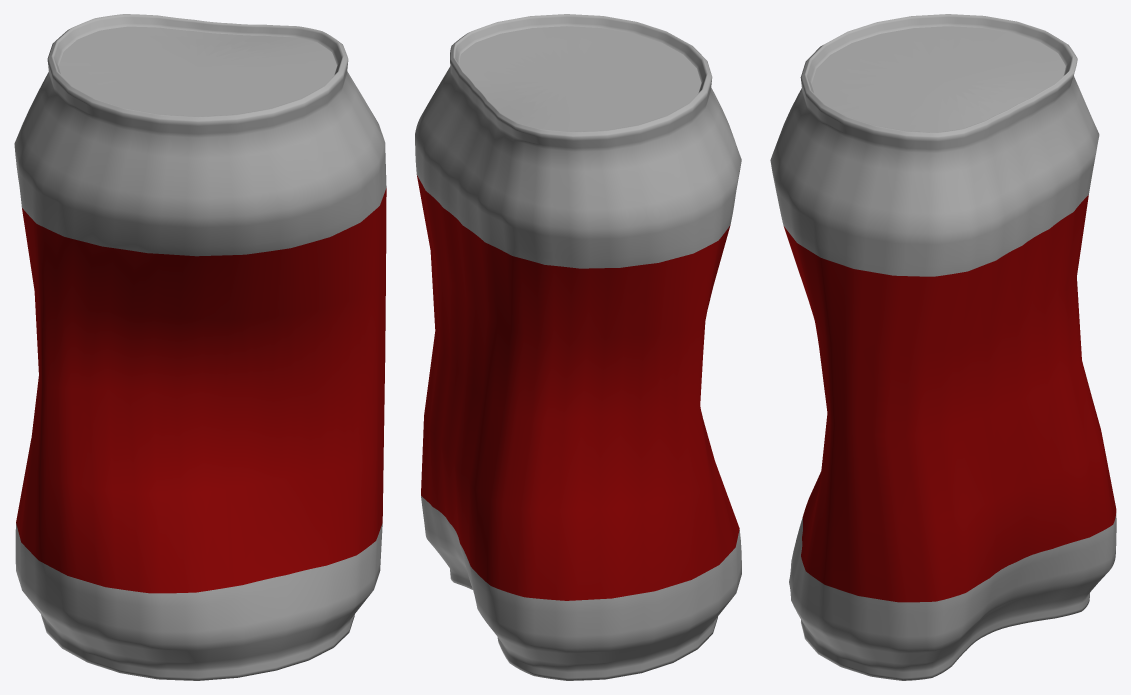
The model's file is Dose_Deformiert.fbx.
The picture shows the model from 3 angles, left to right: view 1: azimuth 30°, elevation 25°; view 2: azimuth 150°, elevation 25°; view 3: azimuth 270°, elevation 25°; orthographic projection. The views are drawn at different scales.
Parts seen in each view (by area): view 1: Cylinder.001; view 2: Cylinder.001; view 3: Cylinder.001.
Boxes of the visible parts, x1,y1,x2,y2 form: Cylinder.001: (14, 14, 386, 680); Cylinder.001: (415, 14, 741, 680); Cylinder.001: (770, 14, 1116, 680).
Bounding box in the file's own units: 2.05 × 3.47 × 1.99.
